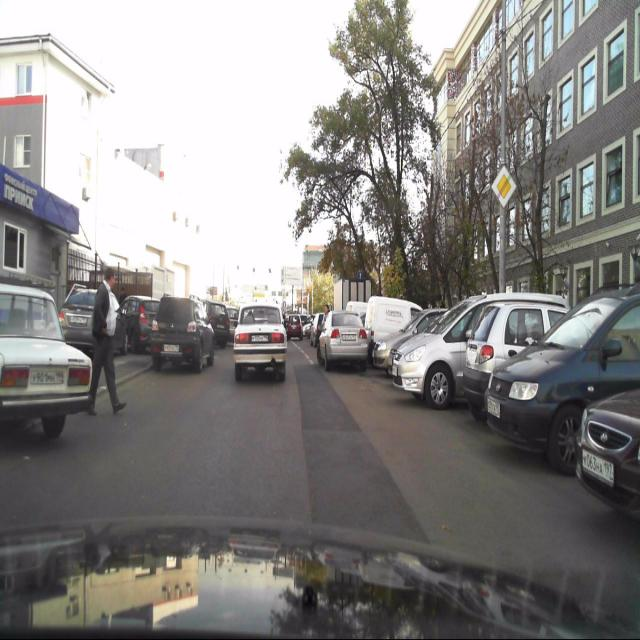road sign: (492, 164, 517, 208)
